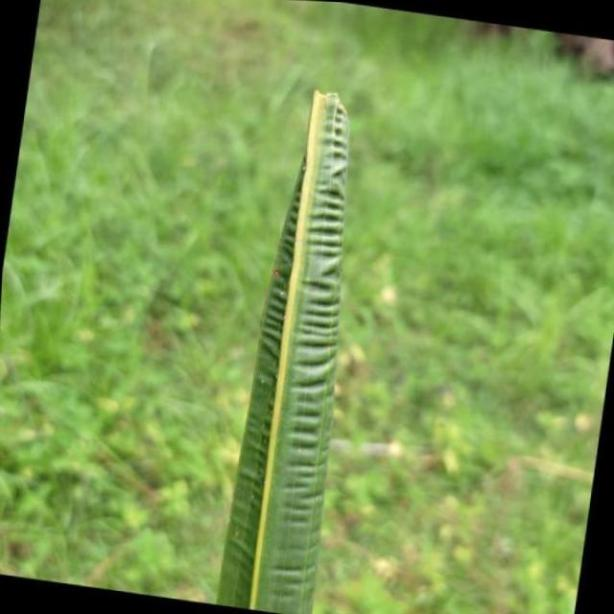Boron: (212, 86, 351, 614)
